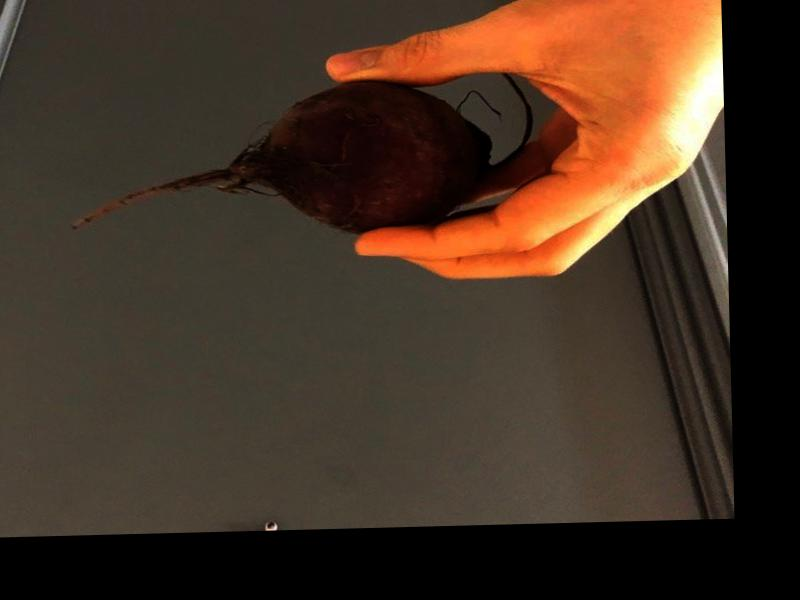Beet: (58, 74, 532, 237)
